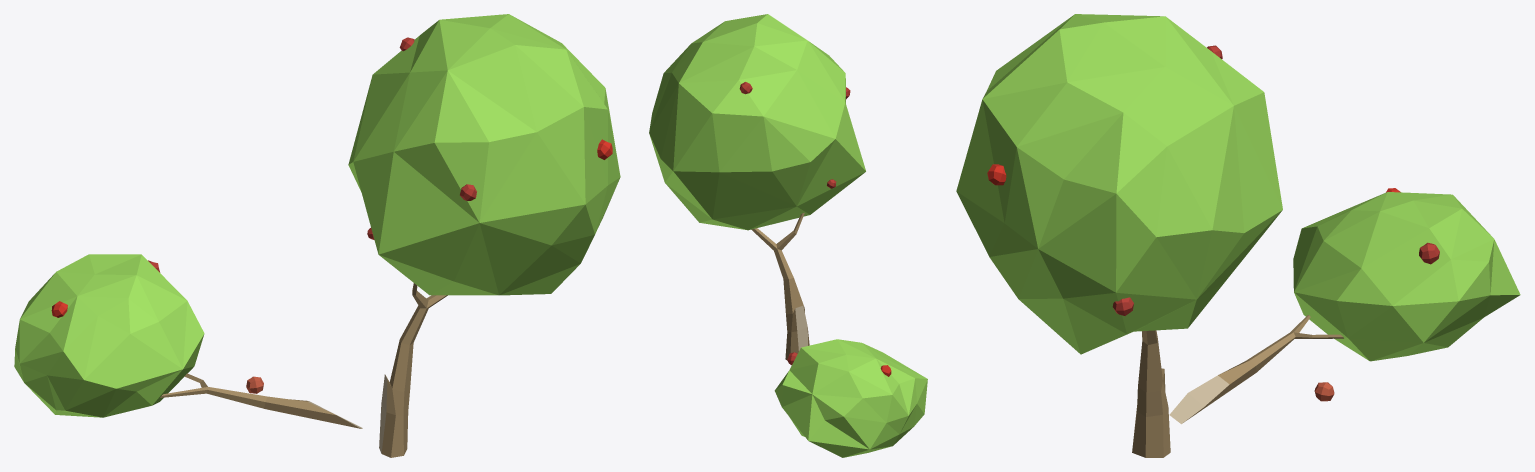
File: Apple_Tree_Apples_crk_m_03_LOD.fbx
3 renders of one model, left to right at view 1: azimuth 30°, elevation 25°; view 2: azimuth 150°, elevation 25°; view 3: azimuth 270°, elevation 25°, orthographic. The views are drawn at different scales.
Parts seen in each view (by area): view 1: Apple_Tree_Apples_crk_m_03_LOD0; view 2: Apple_Tree_Apples_crk_m_03_LOD0; view 3: Apple_Tree_Apples_crk_m_03_LOD0.
Boxes of the visible parts, x1=… form: Apple_Tree_Apples_crk_m_03_LOD0: x1=14, y1=14, x2=620, y2=457; Apple_Tree_Apples_crk_m_03_LOD0: x1=649, y1=14, x2=927, y2=457; Apple_Tree_Apples_crk_m_03_LOD0: x1=956, y1=14, x2=1520, y2=457.
Size of what is drawn, in the model's own units: 827 by 721 by 784.
